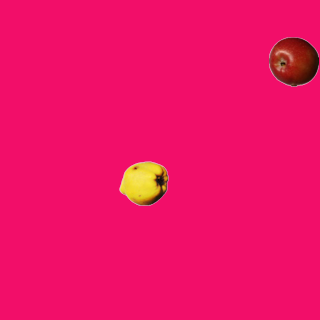Apple Braeburn: (268, 36, 318, 86)
Quince: (118, 158, 168, 208)
